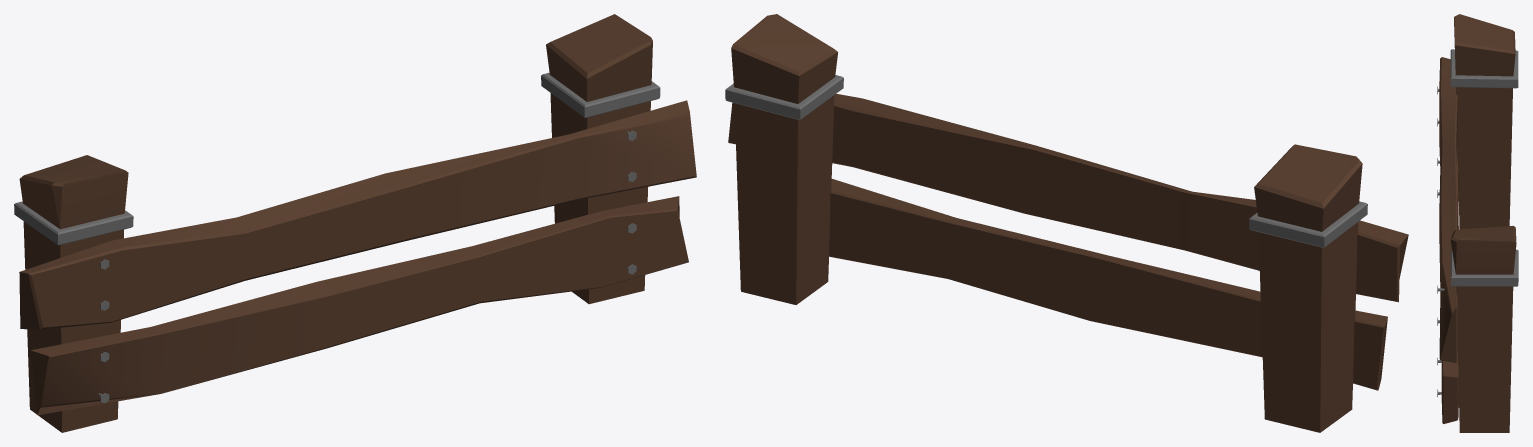
Rendered from Zaun.fbx.
3 views of the same model, side by side, from view 1: azimuth 30°, elevation 25°; view 2: azimuth 150°, elevation 25°; view 3: azimuth 270°, elevation 25° (orthographic). The views are drawn at different scales.
Visible parts, largest first — view 1: Wände; view 2: Wände; view 3: Wände.
Boxes of the visible parts, x1,y1,x2,y2 form: Wände: (14,14,696,432); Wände: (725,14,1408,432); Wände: (1437,14,1518,432).
Bounding box in the file's own units: 838 × 300 × 113.
